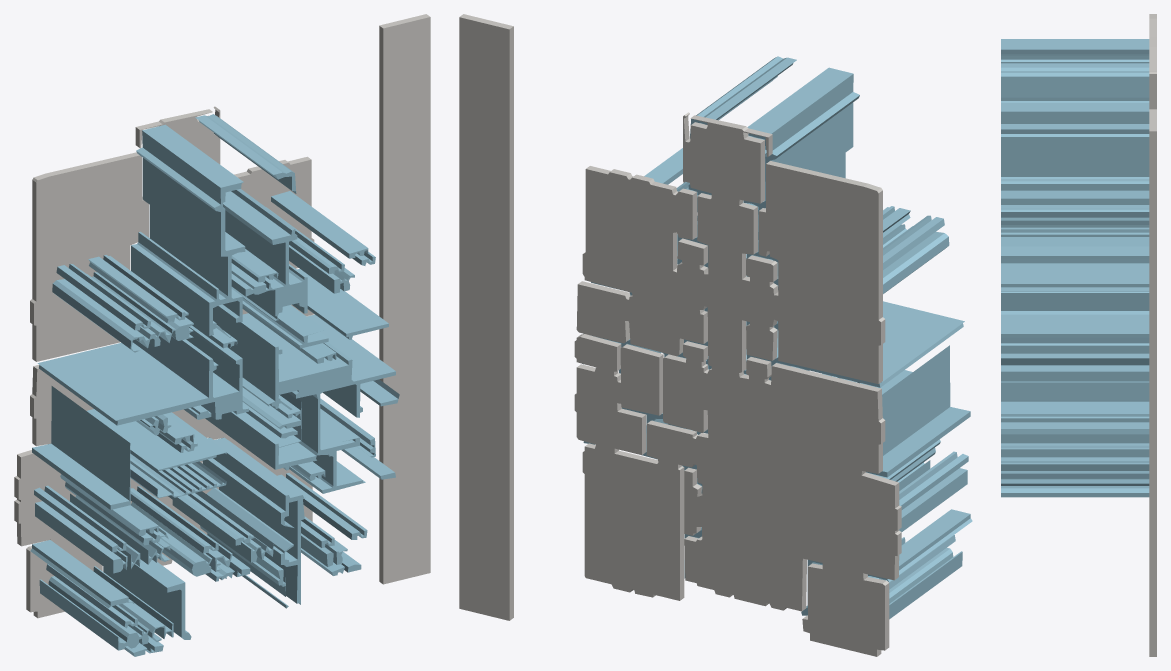
3 views of the same model, side by side, from view 1: azimuth 30°, elevation 25°; view 2: azimuth 150°, elevation 25°; view 3: azimuth 270°, elevation 25° (orthographic). The views are drawn at different scales.
Visible parts, largest first — view 1: world; view 2: world; view 3: world.
Boxes of the visible parts, box(x1,y1,x2,y2) form: world: box(14, 14, 430, 656); world: box(459, 14, 972, 656); world: box(1001, 14, 1156, 656).
Size of the model in its own units: 8.8 by 11.35 by 3.05.
